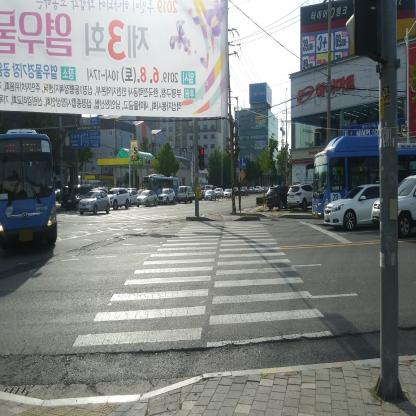Red: (199, 147, 205, 170)
